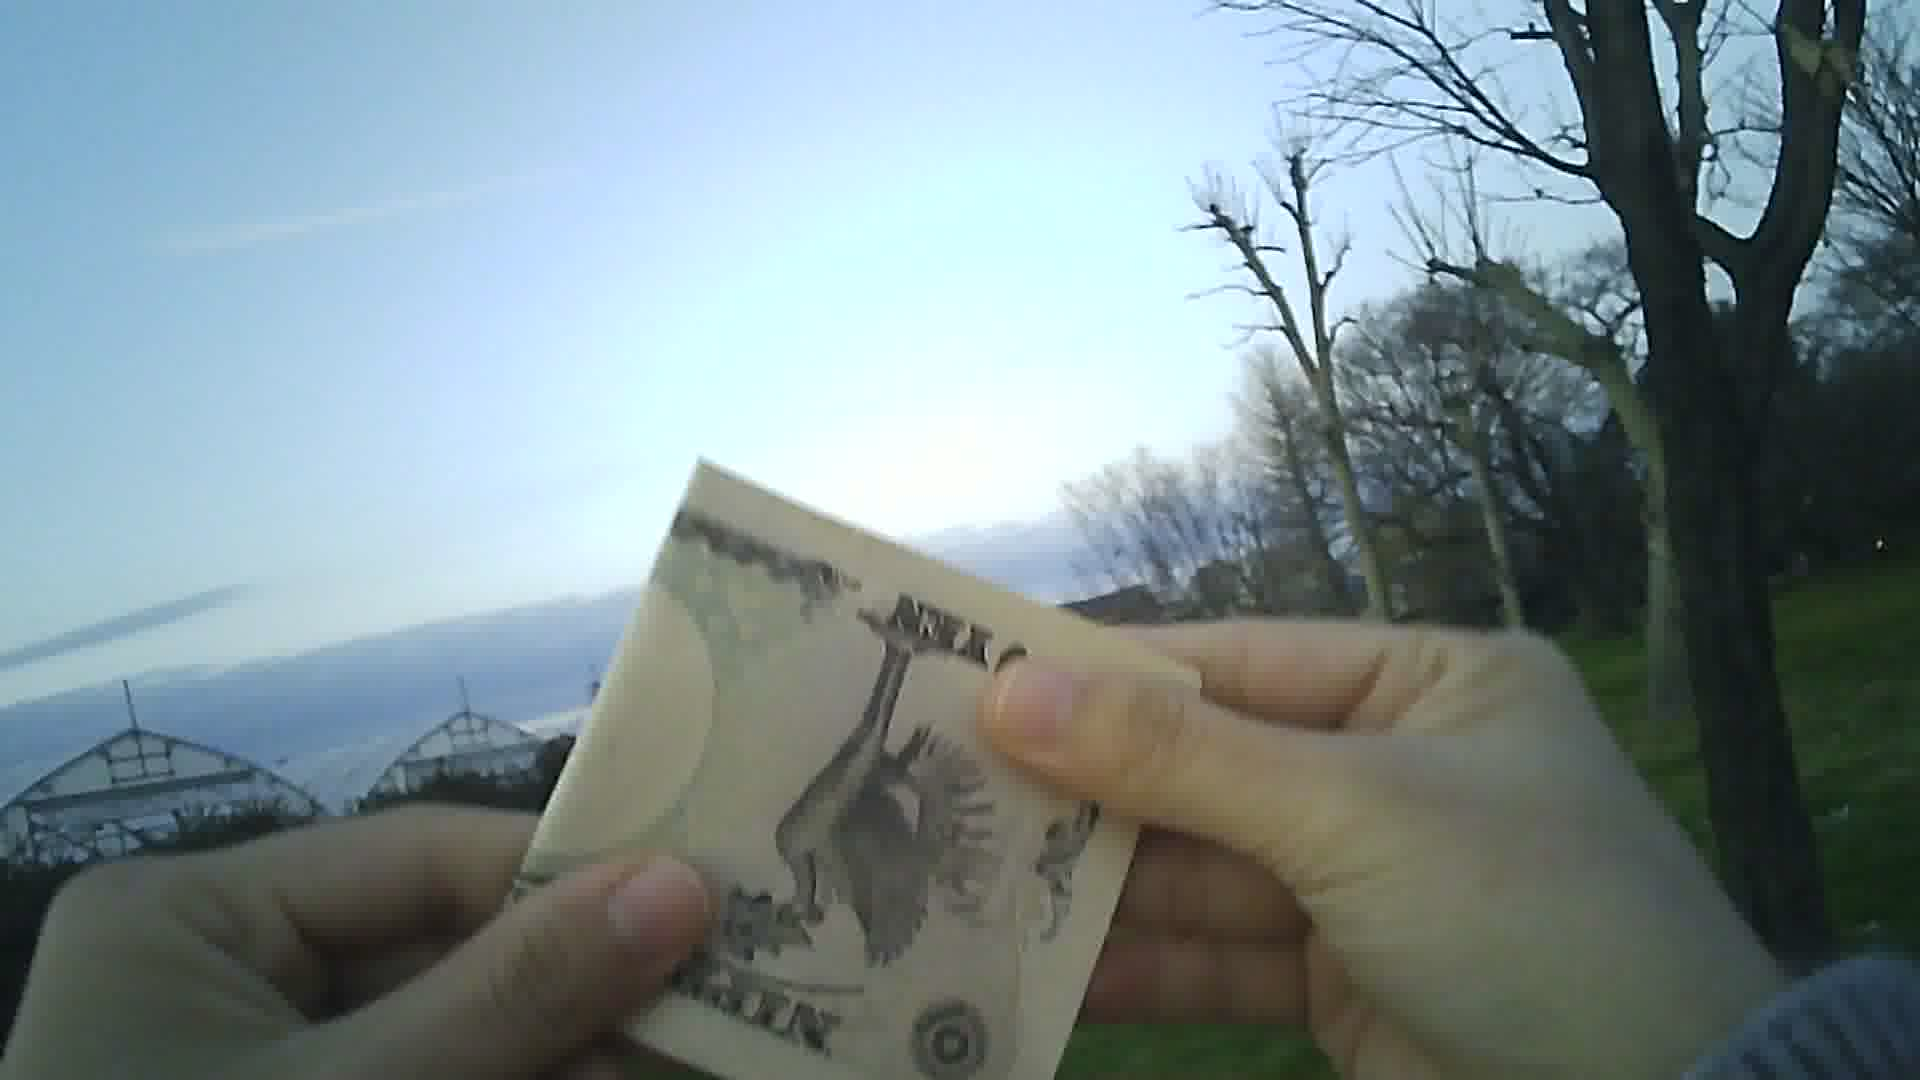10,000 Yen: (460, 415, 1164, 1069)
